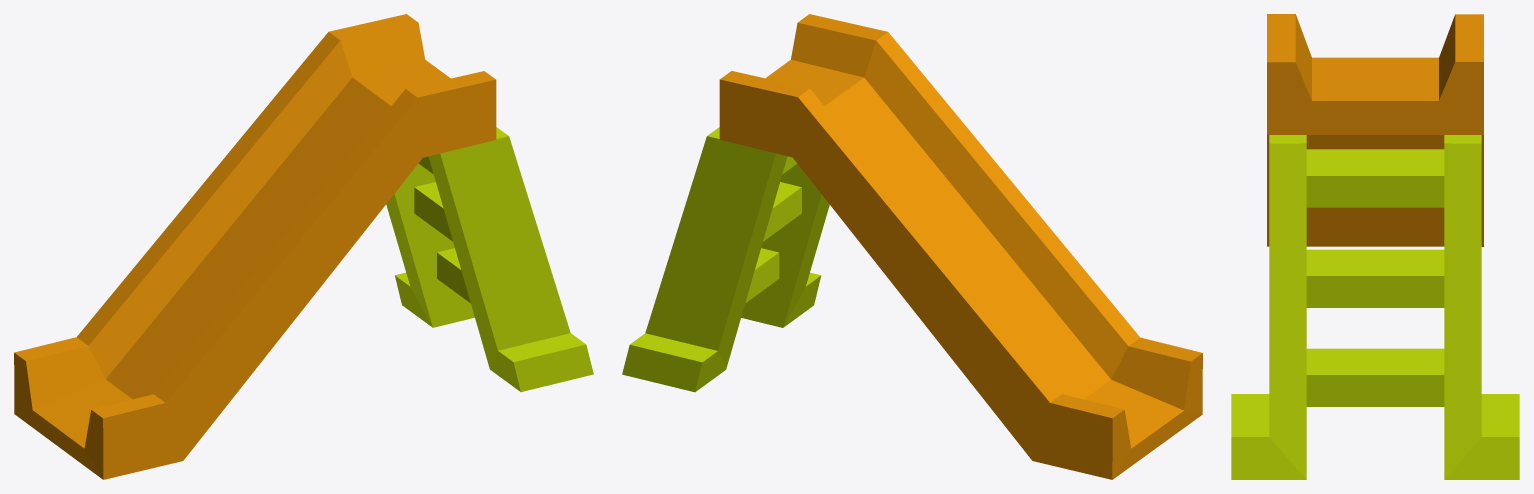
Rendered from hill01_s02.FBX.
3 renders of one model, left to right at view 1: azimuth 30°, elevation 25°; view 2: azimuth 150°, elevation 25°; view 3: azimuth 270°, elevation 25°, orthographic. The views are drawn at different scales.
Parts seen in each view (by area): view 1: hill01_s02; view 2: hill01_s02; view 3: hill01_s02.
Part boxes in pixels (x1=…): hill01_s02: x1=14, y1=14, x2=593, y2=479; hill01_s02: x1=622, y1=14, x2=1202, y2=479; hill01_s02: x1=1231, y1=14, x2=1519, y2=479.
Bounding box in the file's own units: 242 × 105 × 149.
1 material, 1 textured.
